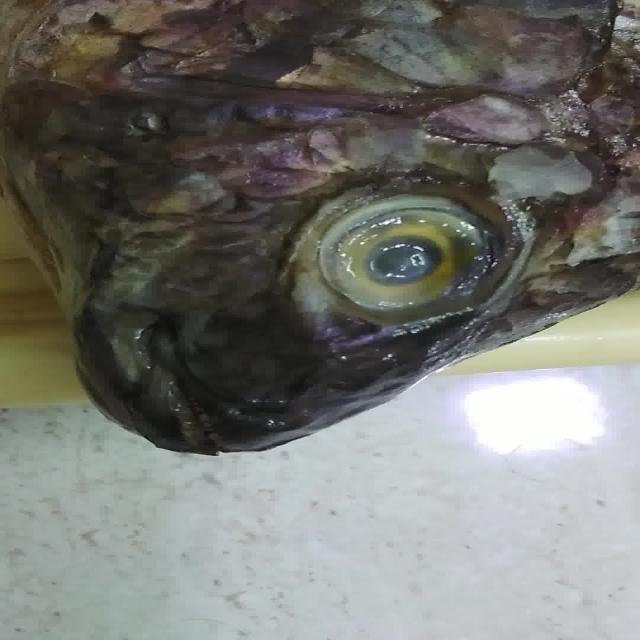Non-Fresh: (286, 180, 520, 331)
